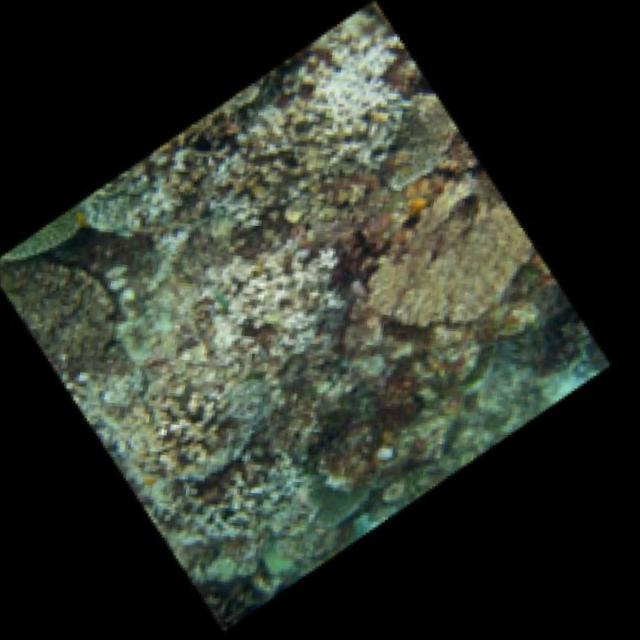Dead Coral: (64, 347, 347, 573), (338, 182, 550, 357)
